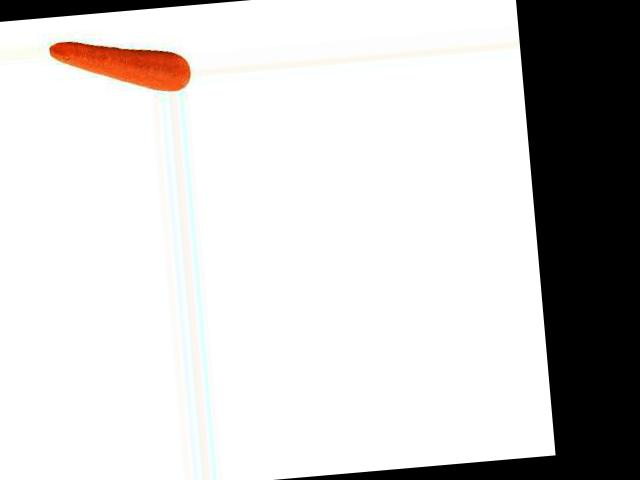carrot: (49, 28, 192, 100)
